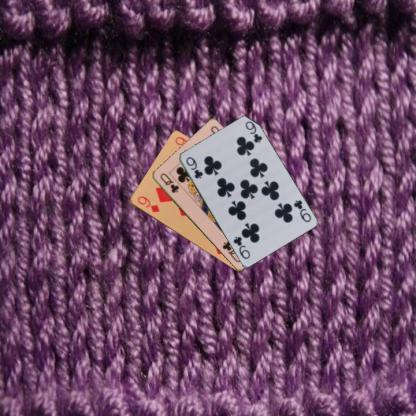9c: (291, 197, 312, 224), (183, 154, 204, 180)
9d: (134, 193, 160, 214)
Qc: (157, 171, 180, 194)
